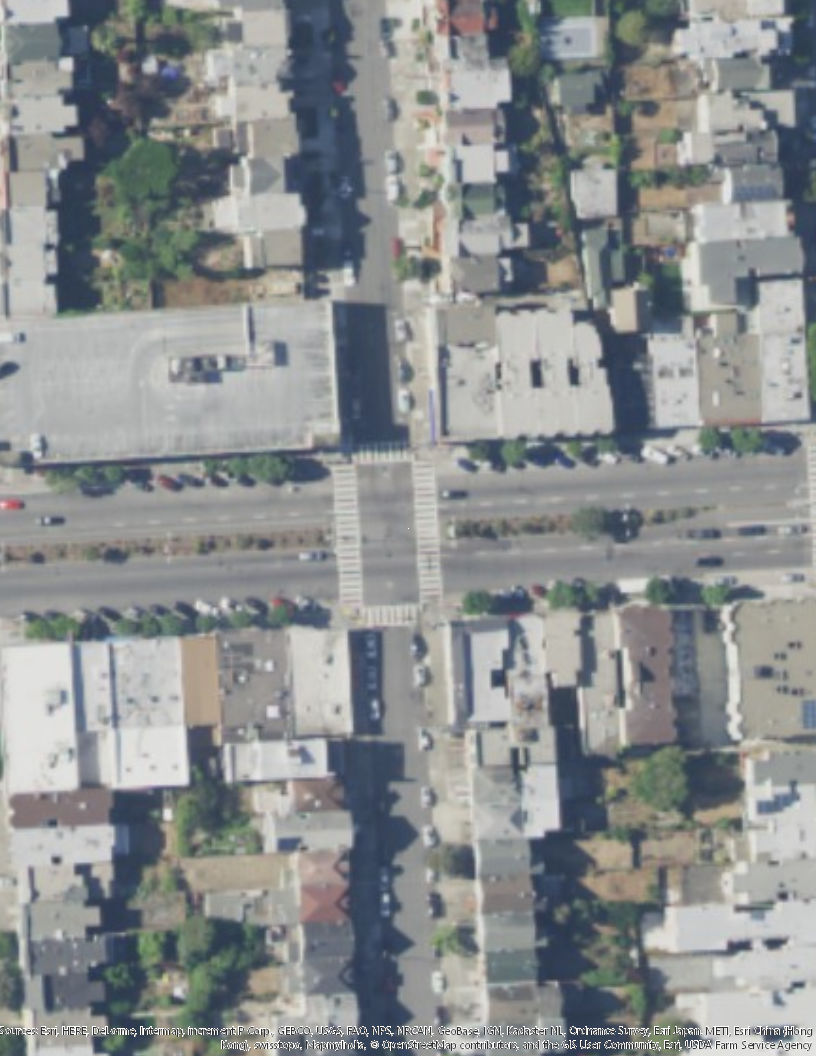zebracross: (333, 465, 365, 605), (413, 461, 444, 601), (348, 437, 415, 467), (365, 600, 418, 628)
